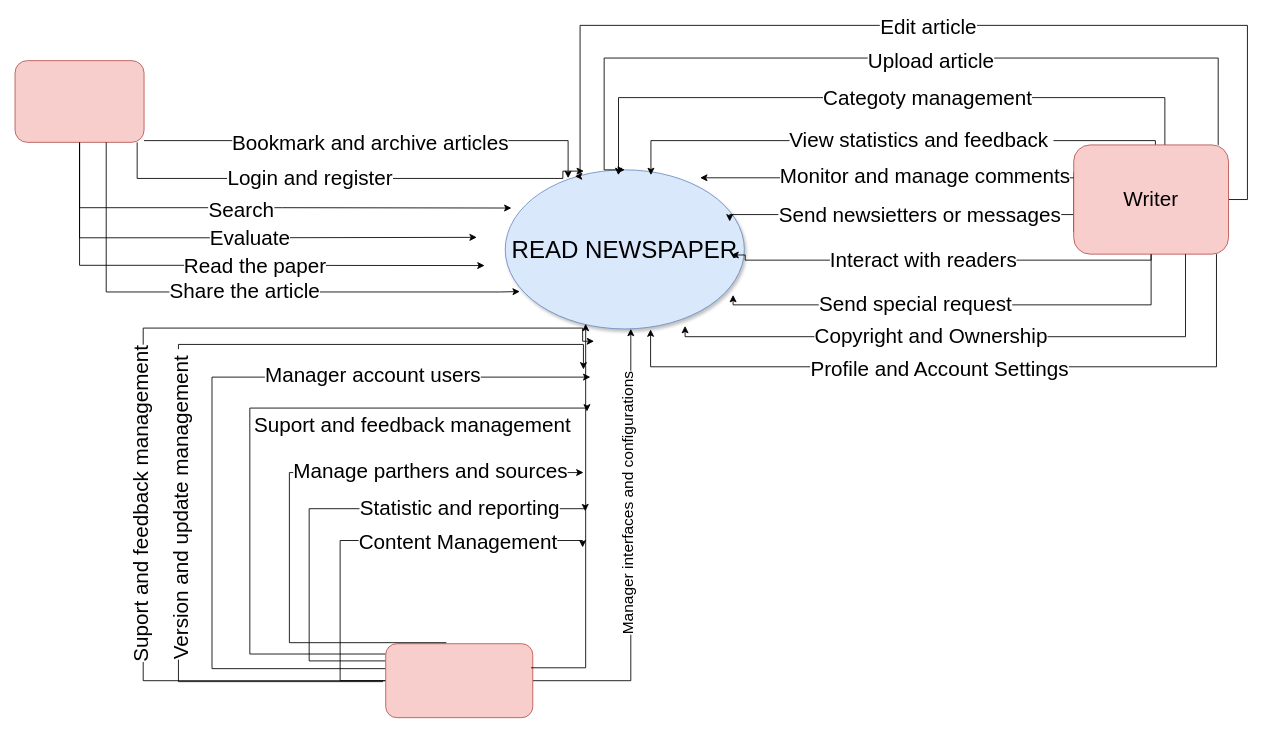
Some shapes in this 1269 by 733 pixel diagram are drawn without their labels. Here are the shapes that lost their labels. From the top down, the centre of each, then its label:
At [79,101]: "Reader".
At [459,680]: "Manager".
